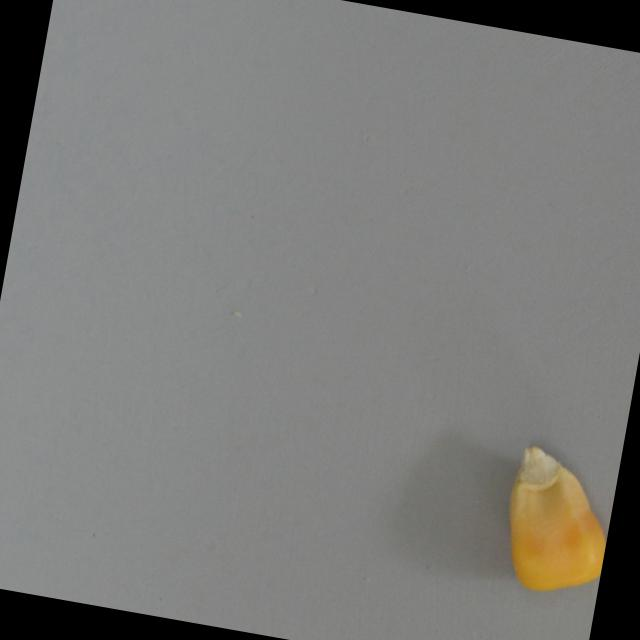entero: (489, 441, 620, 604)
